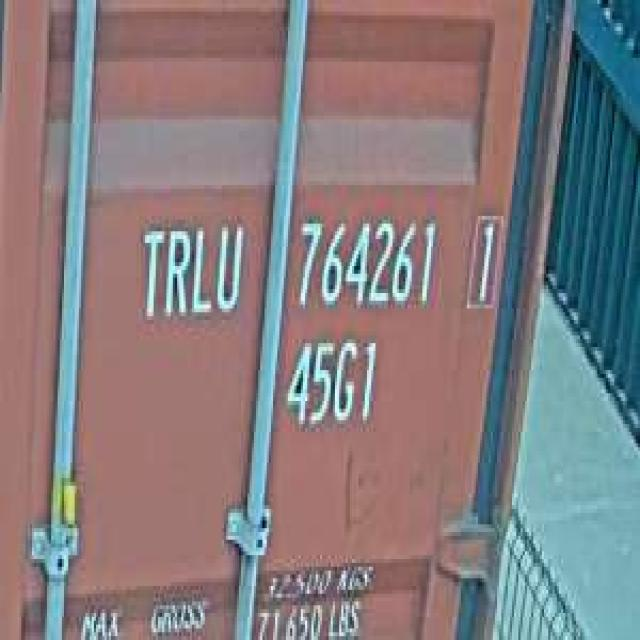dv: (463, 201, 503, 316)
owner: (137, 212, 246, 332)
serial: (290, 204, 440, 320)
size: (279, 328, 380, 436)
